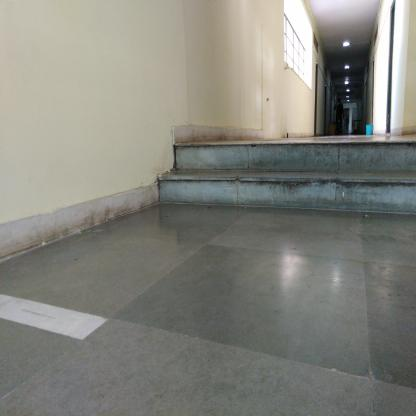stairs: (174, 141, 416, 216)
